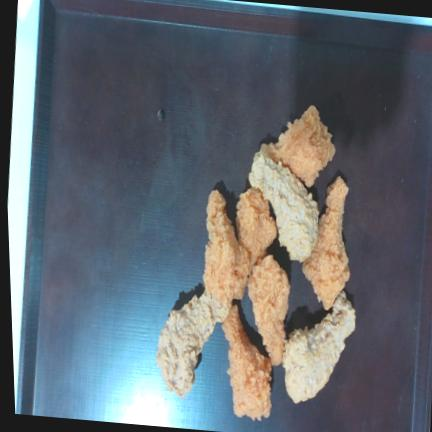chicken: (282, 291, 355, 403), (156, 292, 229, 397), (249, 151, 318, 262), (302, 176, 350, 310), (261, 105, 335, 187), (221, 306, 272, 420), (203, 190, 248, 316), (248, 255, 290, 365), (236, 188, 277, 274)
